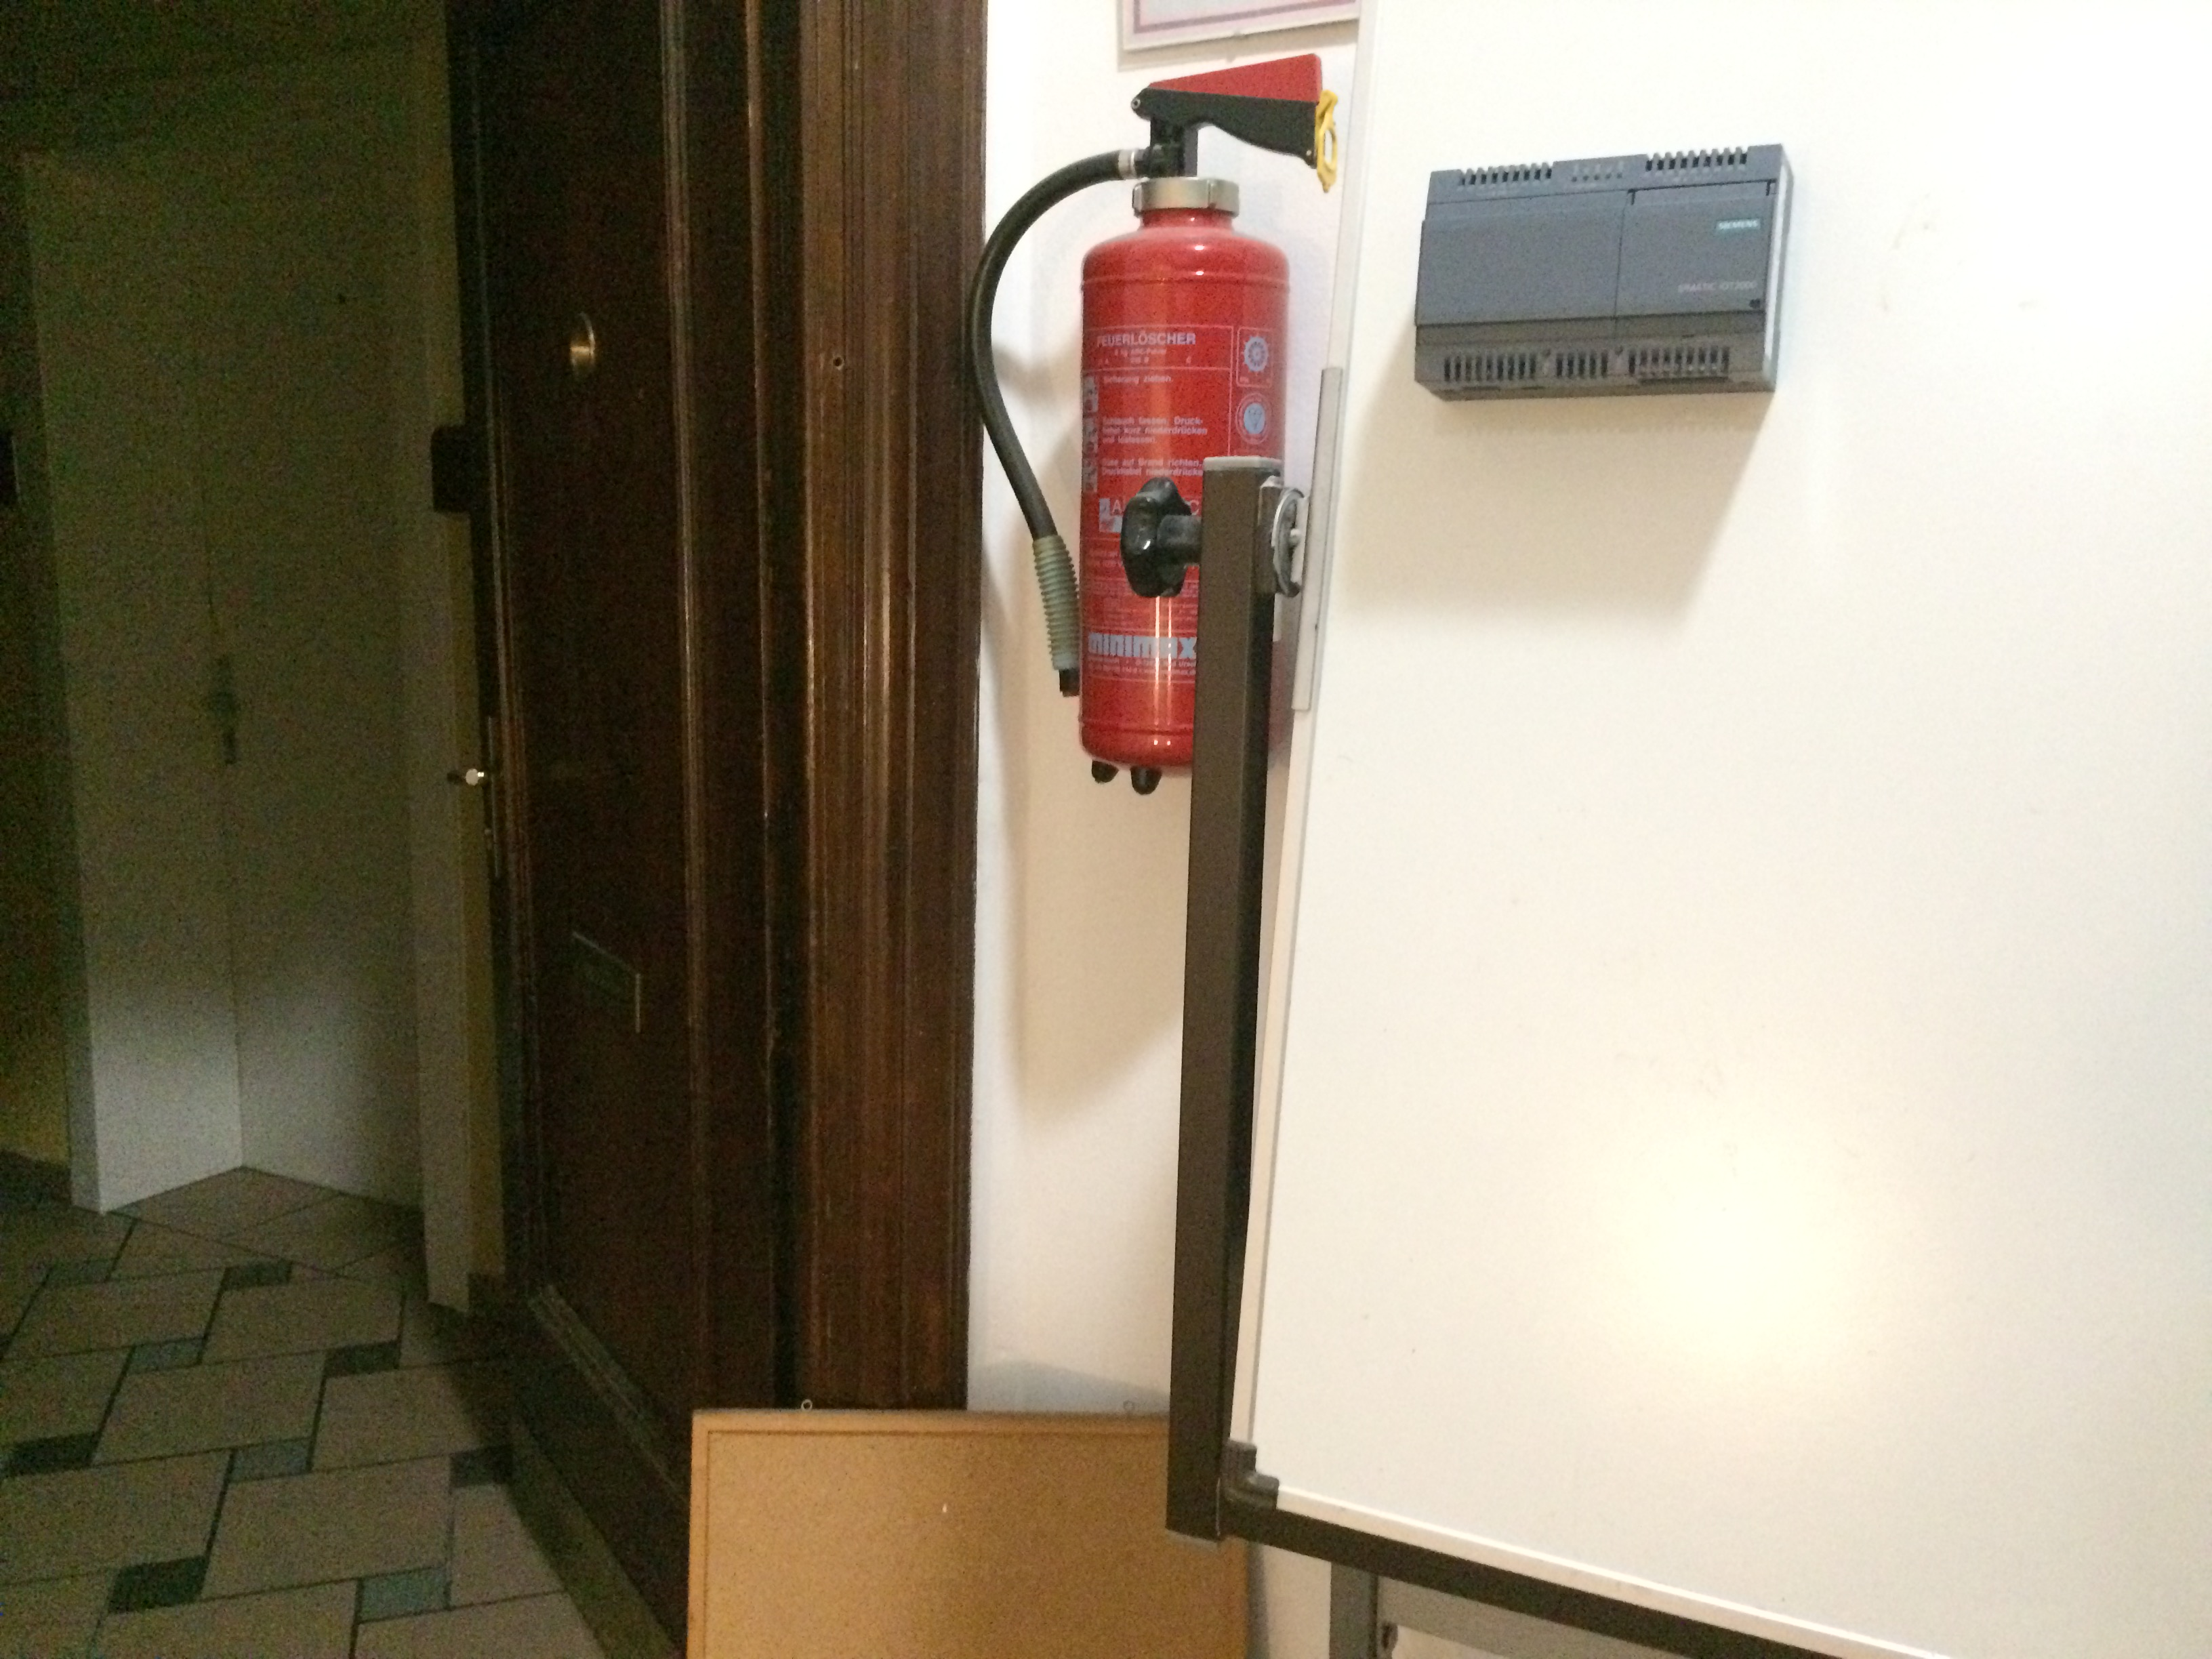iot2000: (1413, 139, 1799, 404)
